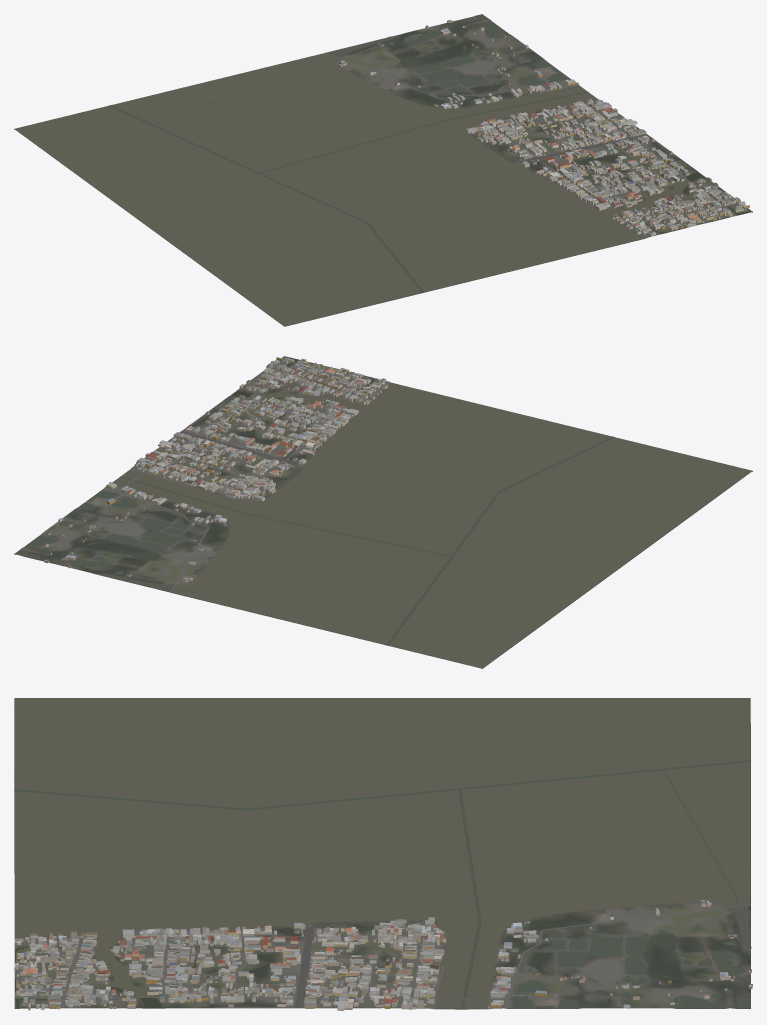
3 renders of one model, top to bottom at view 1: azimuth 30°, elevation 25°; view 2: azimuth 150°, elevation 25°; view 3: azimuth 270°, elevation 25°, orthographic. The views are drawn at different scales.
Visible parts, largest first — view 1: water, ground, buildings, roads; view 2: water, ground, buildings, roads; view 3: water, ground, buildings, roads.
Boxes of the visible parts, x1=… form: water: x1=15, y1=14, x2=751, y2=326; ground: x1=14, y1=14, x2=752, y2=326; buildings: x1=338, y1=19, x2=749, y2=236; roads: x1=325, y1=34, x2=735, y2=237; water: x1=15, y1=356, x2=751, y2=668; ground: x1=14, y1=356, x2=752, y2=668; buildings: x1=44, y1=357, x2=387, y2=581; roads: x1=76, y1=363, x2=389, y2=592; water: x1=14, y1=698, x2=751, y2=1009; ground: x1=14, y1=698, x2=750, y2=1009; buildings: x1=14, y1=900, x2=752, y2=1010; roads: x1=14, y1=904, x2=750, y2=1008.
Bounding box in the file's own units: 1412 × 15.41 × 1405.
